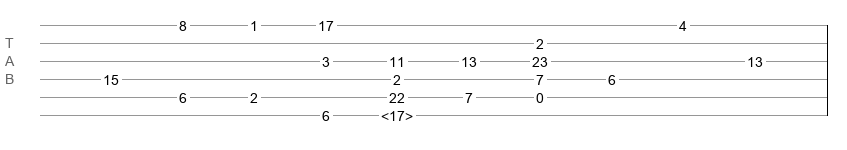0: (536, 90, 544, 100)
1: (250, 18, 258, 28)
11: (389, 54, 405, 64)
13: (461, 54, 477, 64), (747, 54, 763, 64)
15: (103, 72, 119, 82)
17: (318, 18, 334, 28)
2: (250, 90, 258, 100), (393, 72, 401, 82), (536, 36, 544, 46)
22: (389, 90, 405, 100)
23: (532, 54, 548, 64)
3: (322, 54, 330, 64)
4: (679, 18, 687, 28)
6: (179, 90, 187, 100), (322, 108, 330, 118), (608, 72, 616, 82)
7: (465, 90, 473, 100), (536, 72, 544, 82)
8: (179, 18, 187, 28)
harmonic: (381, 108, 413, 118)
